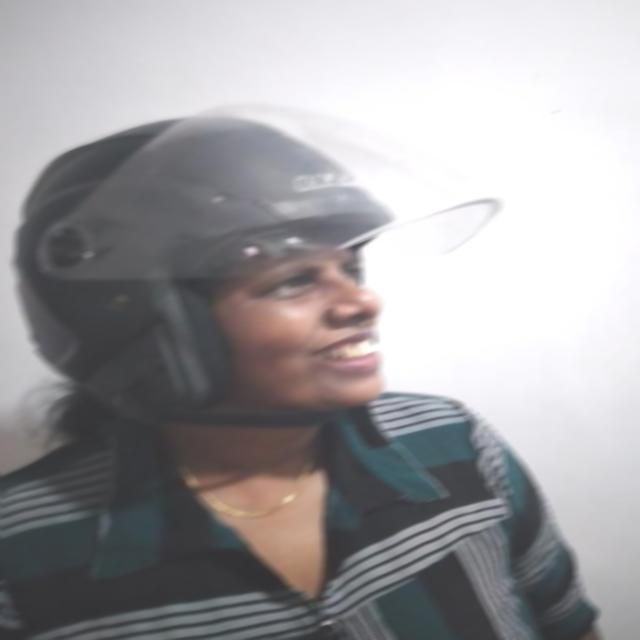With Helmet: (11, 102, 509, 417)
